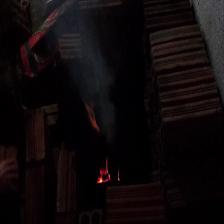fire: (98, 165, 113, 185)
smoke: (66, 36, 112, 99), (99, 105, 116, 140)
